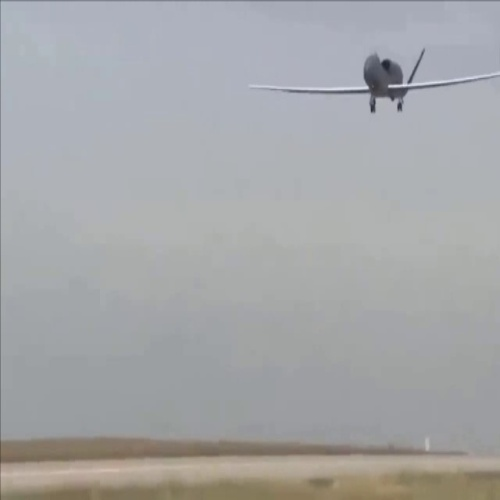uav859: (243, 46, 497, 118)
